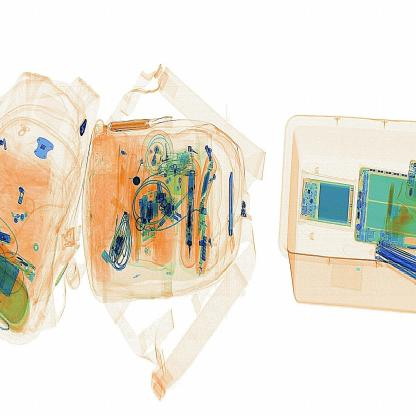pliers: (224, 167, 248, 243)
